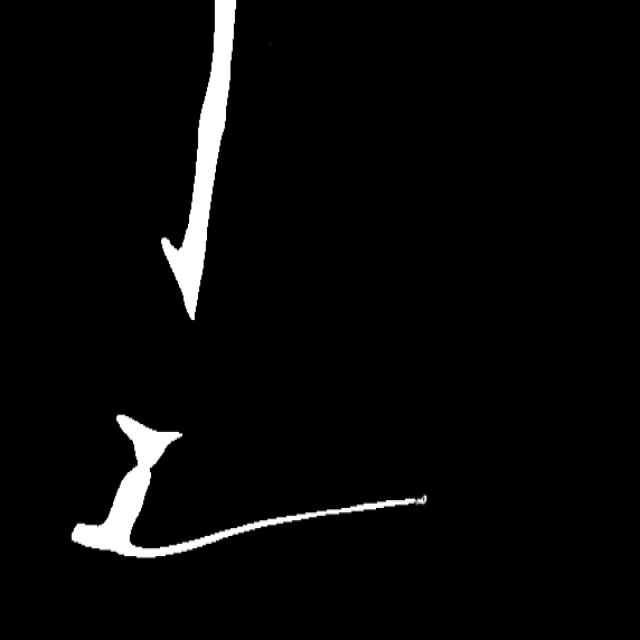stp: (408, 489, 428, 512)
